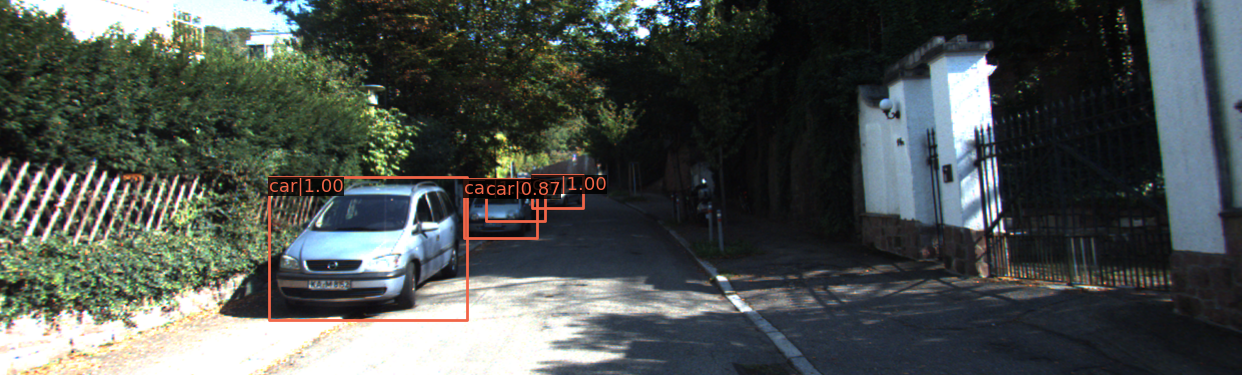car: (276, 180, 462, 318), (466, 183, 533, 239), (530, 177, 583, 210)
